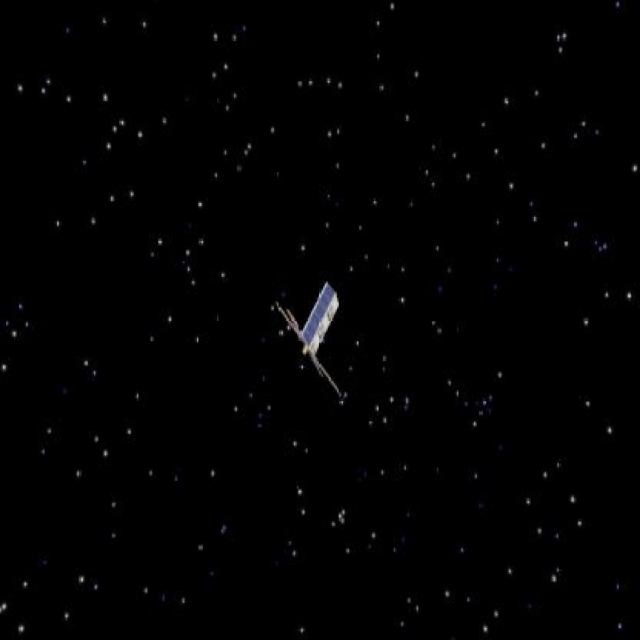medium_debris: (252, 271, 361, 410)
